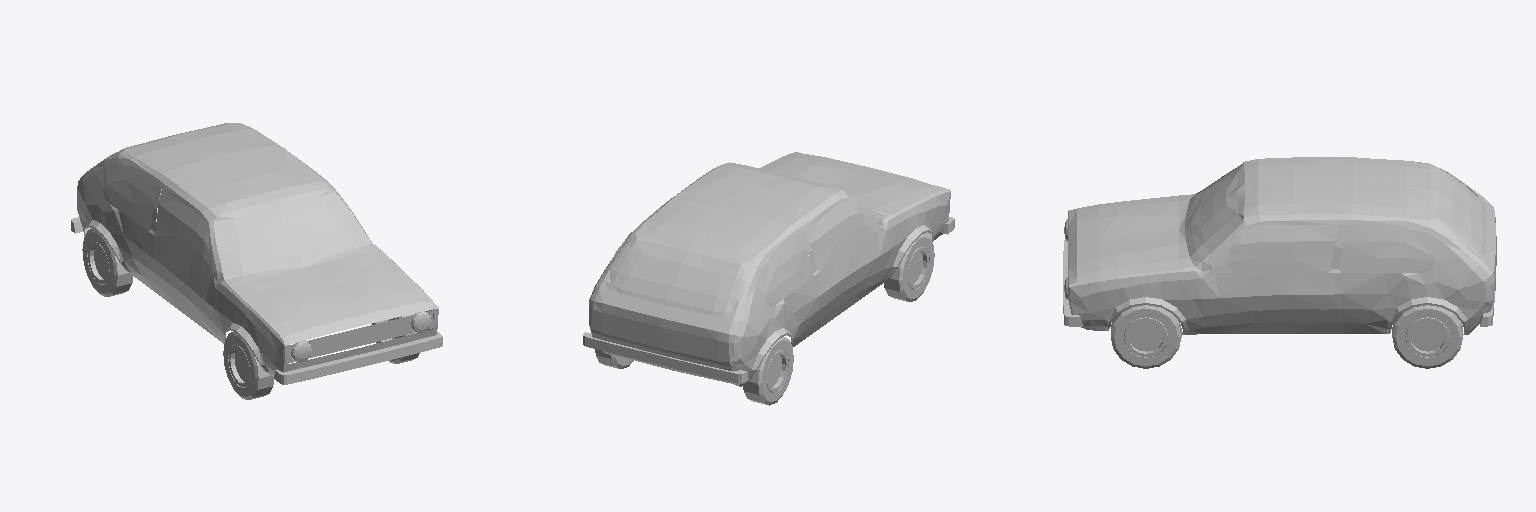
The model's file is golf.obj.
3 renders of one model, left to right at view 1: azimuth 30°, elevation 25°; view 2: azimuth 150°, elevation 25°; view 3: azimuth 270°, elevation 25°, orthographic.
Visible parts, largest first — view 1: Cube, Circle.003_Circle.004, Circle.004_Circle.005; view 2: Cube, Circle.003_Circle.004, Circle.004_Circle.005; view 3: Cube, Circle.002_Circle.003, Circle.001_Circle.002.
Part boxes in pixels (left/top/right/bottom): Cube: left=71, top=123, right=442, bottom=384; Circle.003_Circle.004: left=82, top=229, right=273, bottom=399; Circle.004_Circle.005: left=88, top=241, right=250, bottom=387; Cube: left=583, top=152, right=954, bottom=386; Circle.003_Circle.004: left=743, top=234, right=934, bottom=405; Circle.004_Circle.005: left=767, top=246, right=928, bottom=392; Cube: left=1063, top=157, right=1496, bottom=334; Circle.002_Circle.003: left=1111, top=305, right=1462, bottom=368; Circle.001_Circle.002: left=1124, top=317, right=1449, bottom=356.
Bounding box in the file's own units: 1.97 × 1.58 × 4.27.